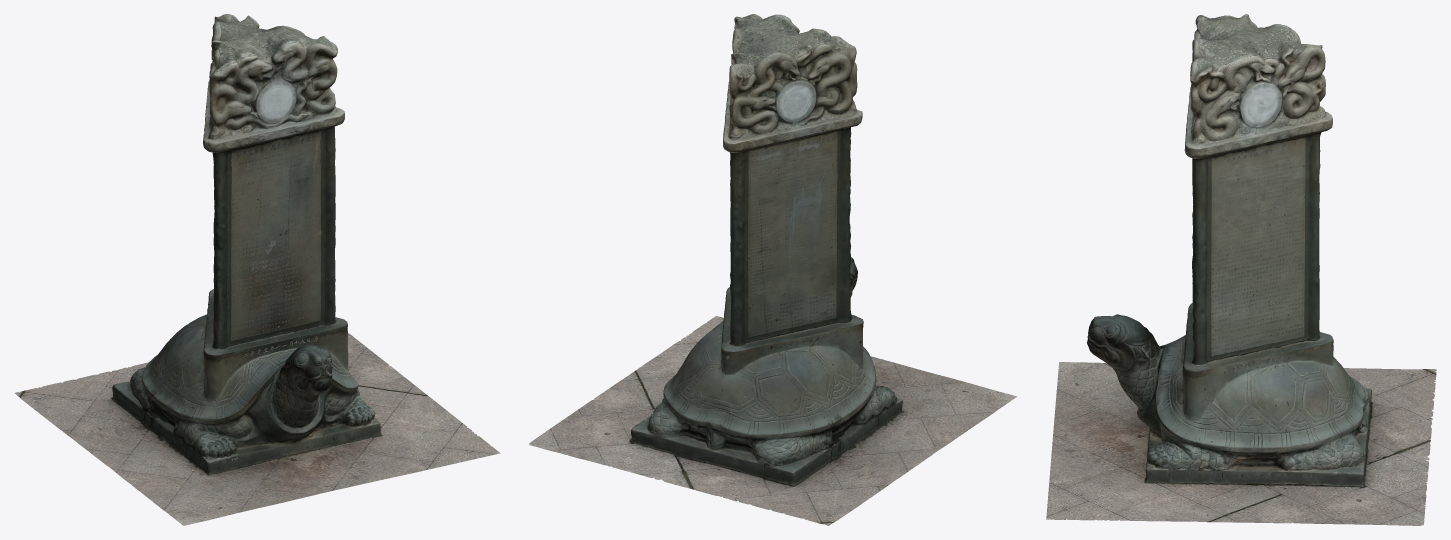
File: hakka-migration-stele.glb
3 renders of one model, left to right at view 1: azimuth 30°, elevation 25°; view 2: azimuth 150°, elevation 25°; view 3: azimuth 270°, elevation 25°, orthographic. The views are drawn at different scales.
Visible parts, largest first — view 1: hakka-migration-stele; view 2: hakka-migration-stele; view 3: hakka-migration-stele.
Boxes of the visible parts, x1=… form: hakka-migration-stele: x1=14, y1=14, x2=500, y2=525; hakka-migration-stele: x1=529, y1=14, x2=1017, y2=525; hakka-migration-stele: x1=1046, y1=14, x2=1436, y2=525.
Size of the model in its own units: 9.15 by 10.7 by 9.18.
1 material, 1 textured.
